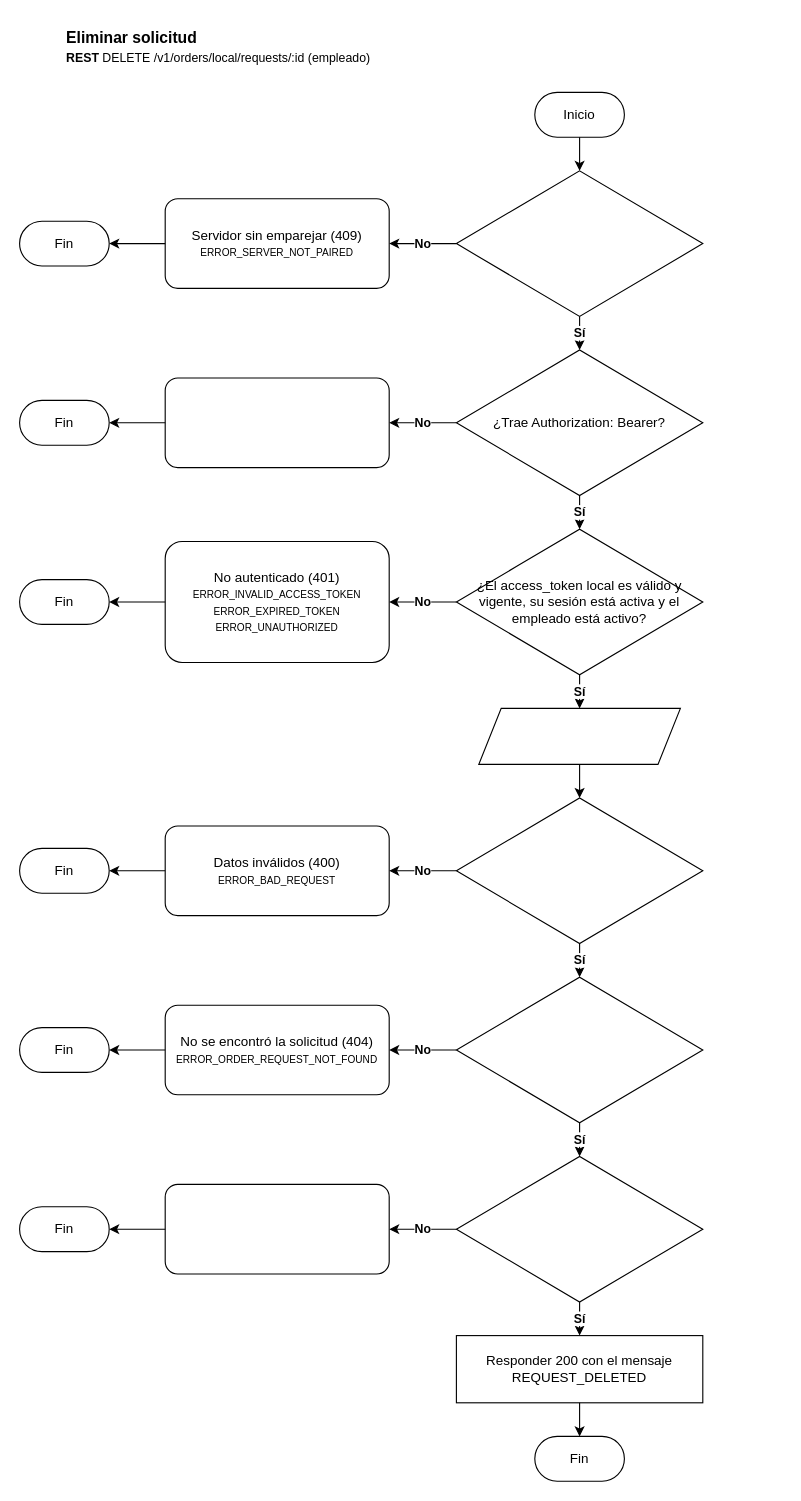
The diagram is 801 pixels wide and 1501 high, and some of its shapes have lost their labels. The box of each missing label's shape, as (x1, y1, x2, y2) in pixels:
El pedido ya no está abierto (409) ERROR_ORDER_NOT_OPEN: (164, 1183, 389, 1274)
Falta el token (401) ERROR_MISSING_TOKEN: (164, 377, 389, 468)
Recibir datos: (478, 707, 680, 764)
¿El pedido del día sigue abierto?: (455, 1155, 703, 1302)
¿El servidor ya se emparejó alguna vez (pairing_status distinto de unpaired)?: (455, 170, 703, 316)
¿Existe la solicitud y es suya?: (455, 976, 703, 1123)
¿Los datos son válidos?: (455, 797, 703, 944)
